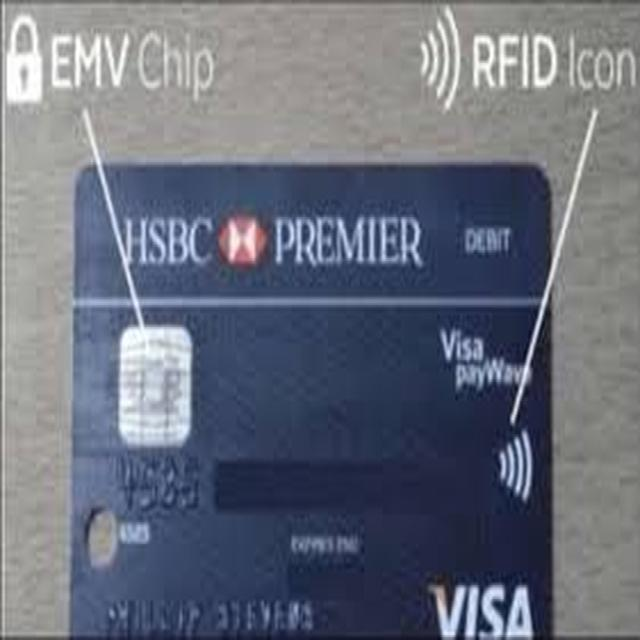card: (75, 152, 552, 637)
